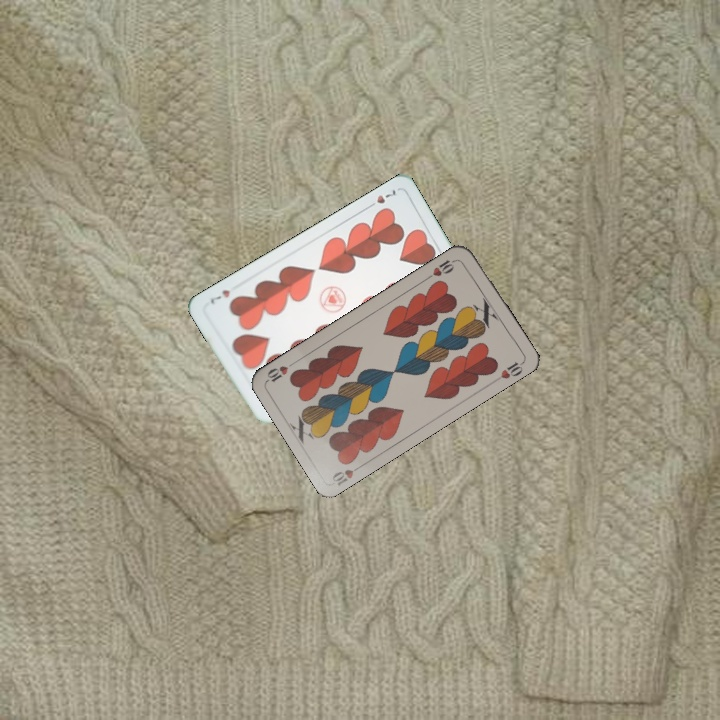H10: (328, 460, 366, 488), (423, 255, 460, 282)
H7: (363, 185, 400, 211)
